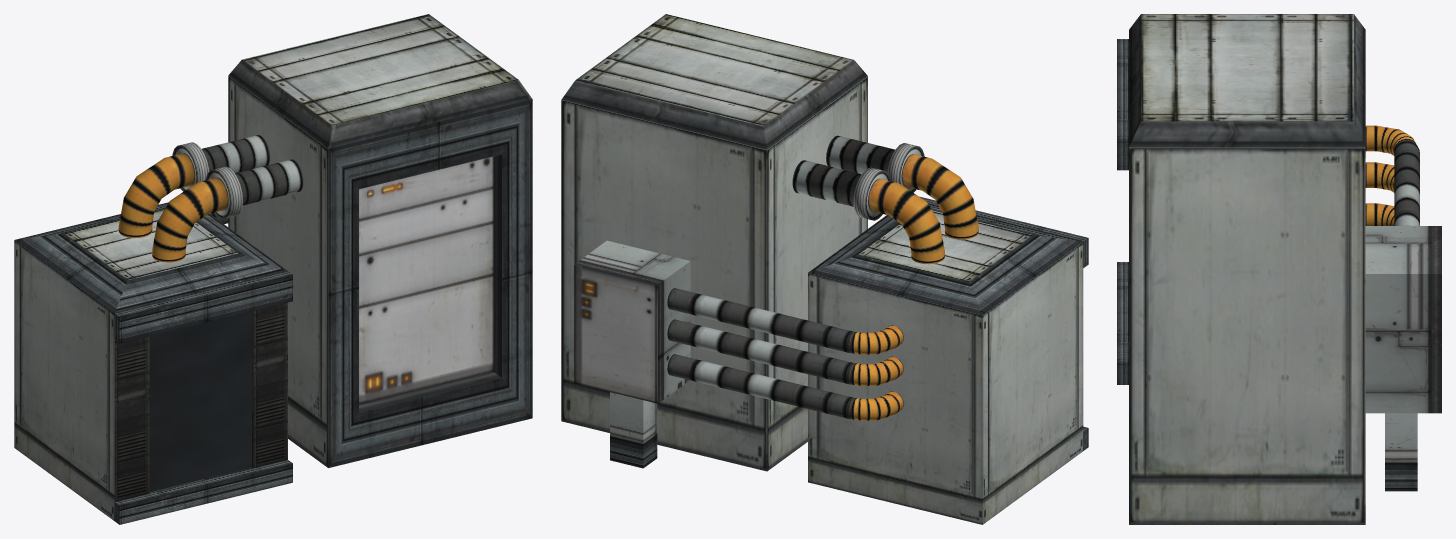
File: geradordeenergia.fbx
3 views of the same model, side by side, from view 1: azimuth 30°, elevation 25°; view 2: azimuth 150°, elevation 25°; view 3: azimuth 270°, elevation 25° (orthographic). The views are drawn at different scales.
Visible parts, largest first — view 1: Cylinder.001, Cylinder.002; view 2: Cylinder.001; view 3: Cylinder.001.
Boxes of the visible parts, box(x1,y1,x2,y2) form: Cylinder.001: box(14, 14, 532, 524); Cylinder.002: box(149, 311, 251, 492); Cylinder.001: box(561, 14, 1088, 524); Cylinder.001: box(1117, 14, 1441, 524).
Size of the model in its own units: 3.68 by 2.88 by 2.1.
